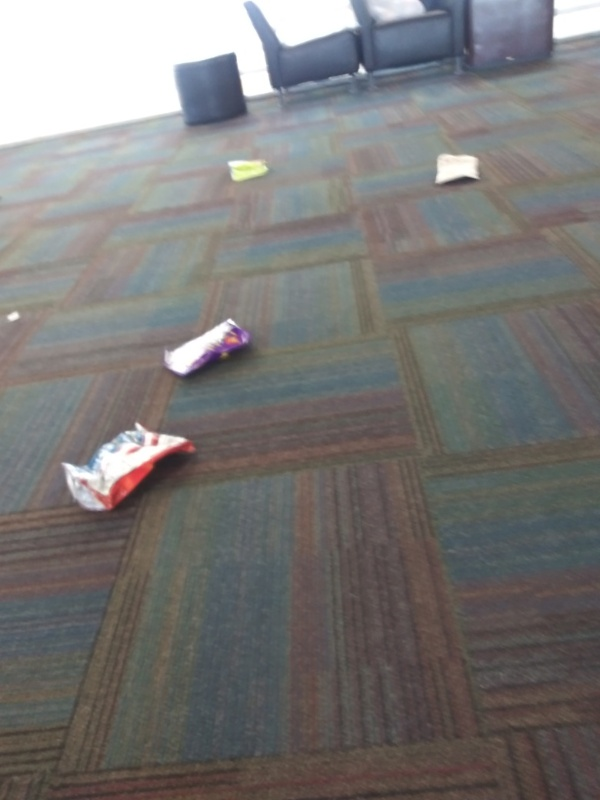bag: (54, 417, 202, 521), (150, 316, 256, 387), (432, 149, 485, 192), (215, 153, 273, 187)
